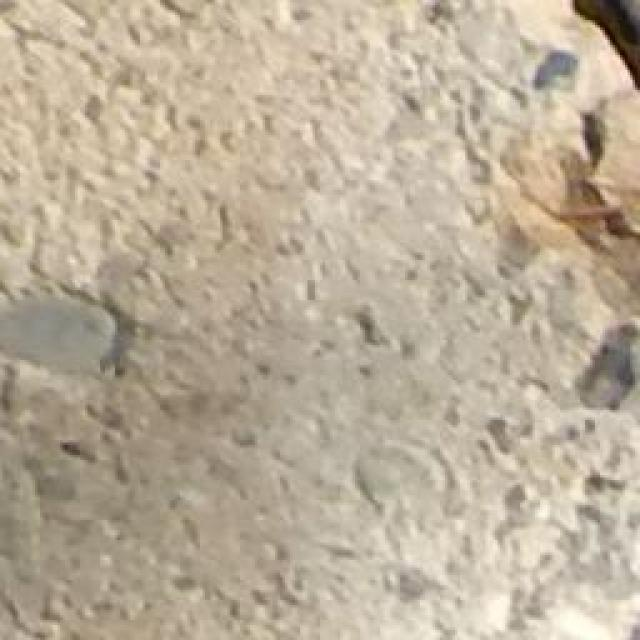concrete-crack: (559, 0, 640, 103)
